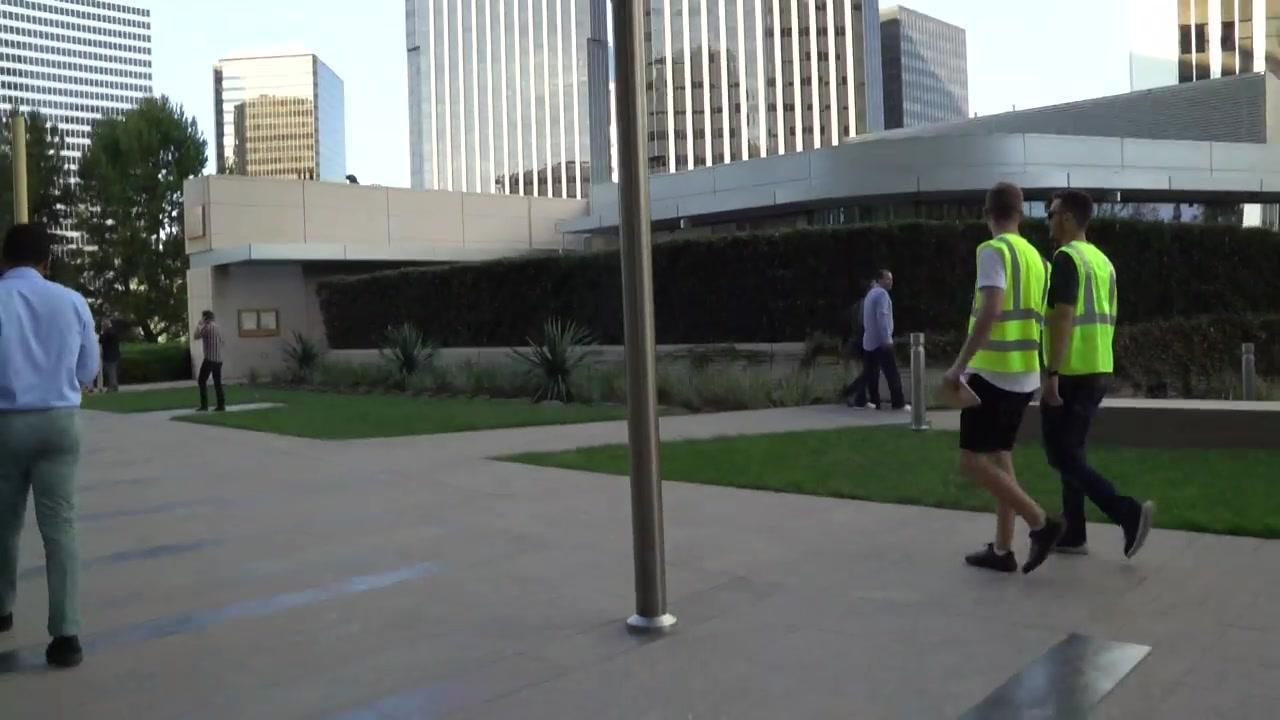vest: (959, 234, 1052, 369), (1043, 238, 1116, 375)
